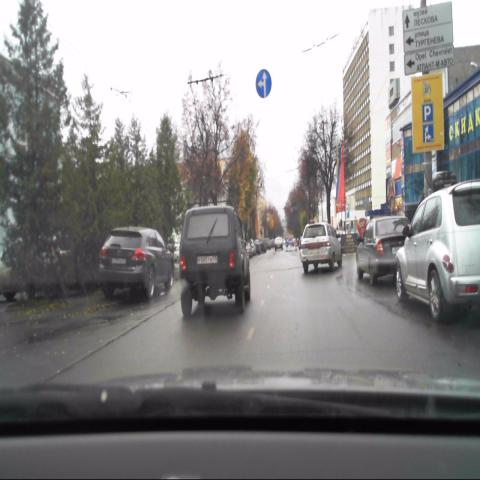4_1_5: (255, 68, 272, 99)
